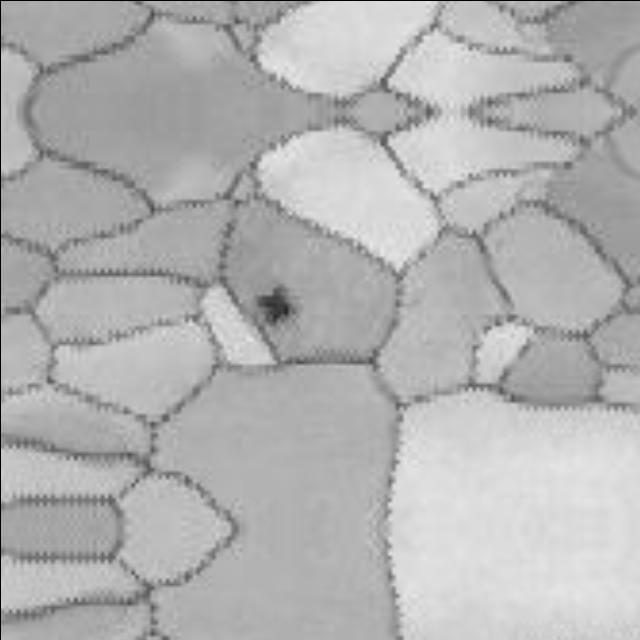good_void: (256, 285, 296, 328)
